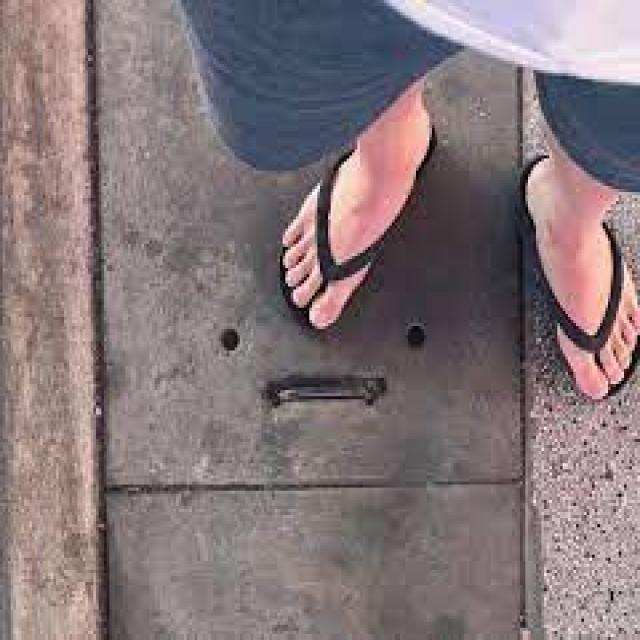Sandals: (208, 76, 640, 448)
